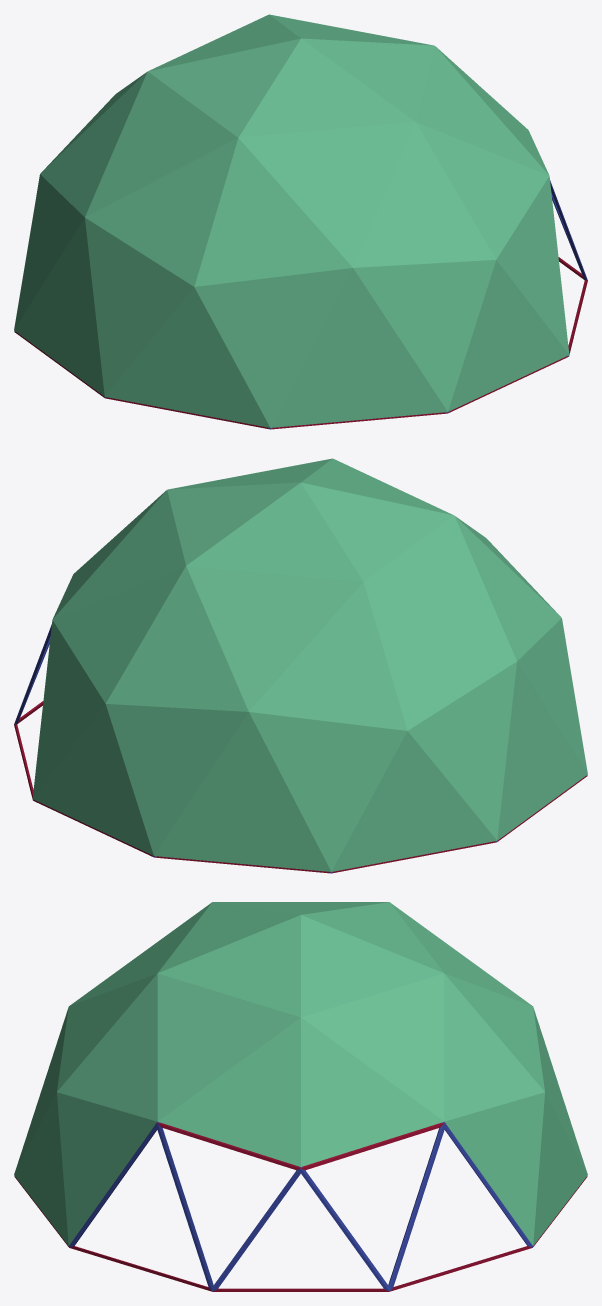
File: Geodesic_Dome_01 .fbx
3 renders of one model, top to bottom at view 1: azimuth 30°, elevation 25°; view 2: azimuth 150°, elevation 25°; view 3: azimuth 270°, elevation 25°, orthographic. The views are drawn at different scales.
Visible parts, largest first — view 1: Geodesic_Dome_01; view 2: Geodesic_Dome_01; view 3: Geodesic_Dome_01.
Boxes of the visible parts, x1,y1,x2,y2 form: Geodesic_Dome_01: [14, 14, 587, 429]; Geodesic_Dome_01: [14, 458, 587, 873]; Geodesic_Dome_01: [14, 902, 587, 1291].
Bounding box in the file's own units: 922 × 489 × 971.
